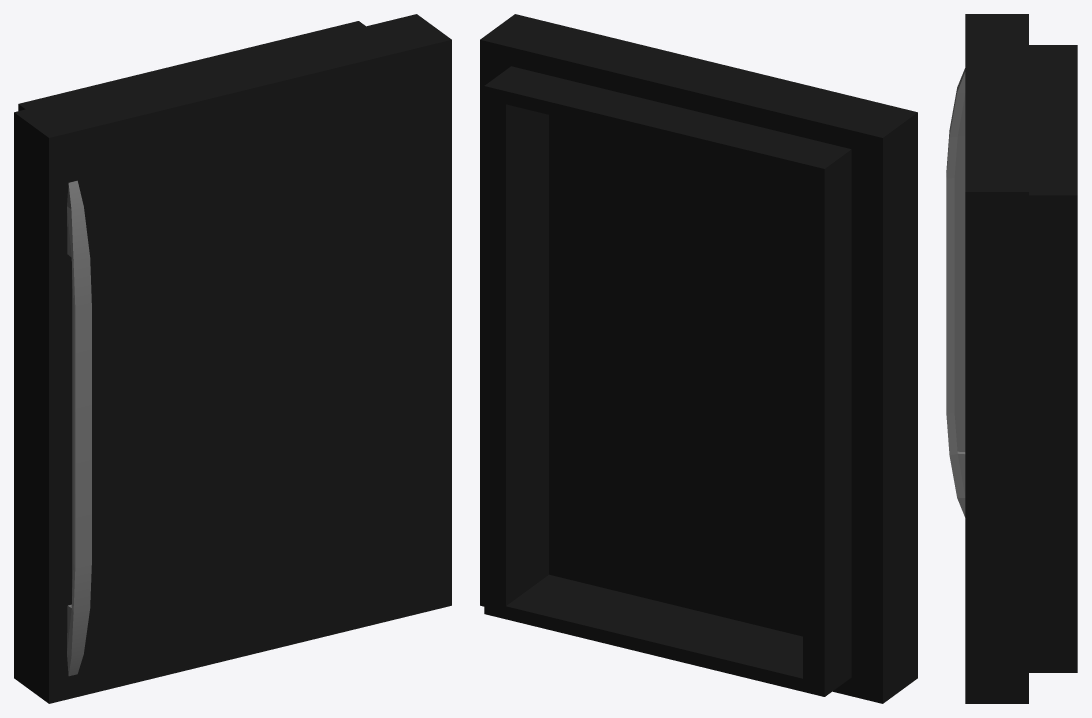
Rendered from Itr_Obj_Fridge2_Top_Door_02.FBX.
3 views of the same model, side by side, from view 1: azimuth 30°, elevation 25°; view 2: azimuth 150°, elevation 25°; view 3: azimuth 270°, elevation 25° (orthographic). The views are drawn at different scales.
Visible parts, largest first — view 1: Itr_Obj_Fridge2_Top_Door_02; view 2: Itr_Obj_Fridge2_Top_Door_02; view 3: Itr_Obj_Fridge2_Top_Door_02.
Boxes of the visible parts, bbox=[...] form: Itr_Obj_Fridge2_Top_Door_02: bbox=[14, 14, 451, 703]; Itr_Obj_Fridge2_Top_Door_02: bbox=[480, 14, 917, 703]; Itr_Obj_Fridge2_Top_Door_02: bbox=[946, 14, 1077, 703].
Size of the model in its own units: 34.44 by 46.23 by 10.74.
